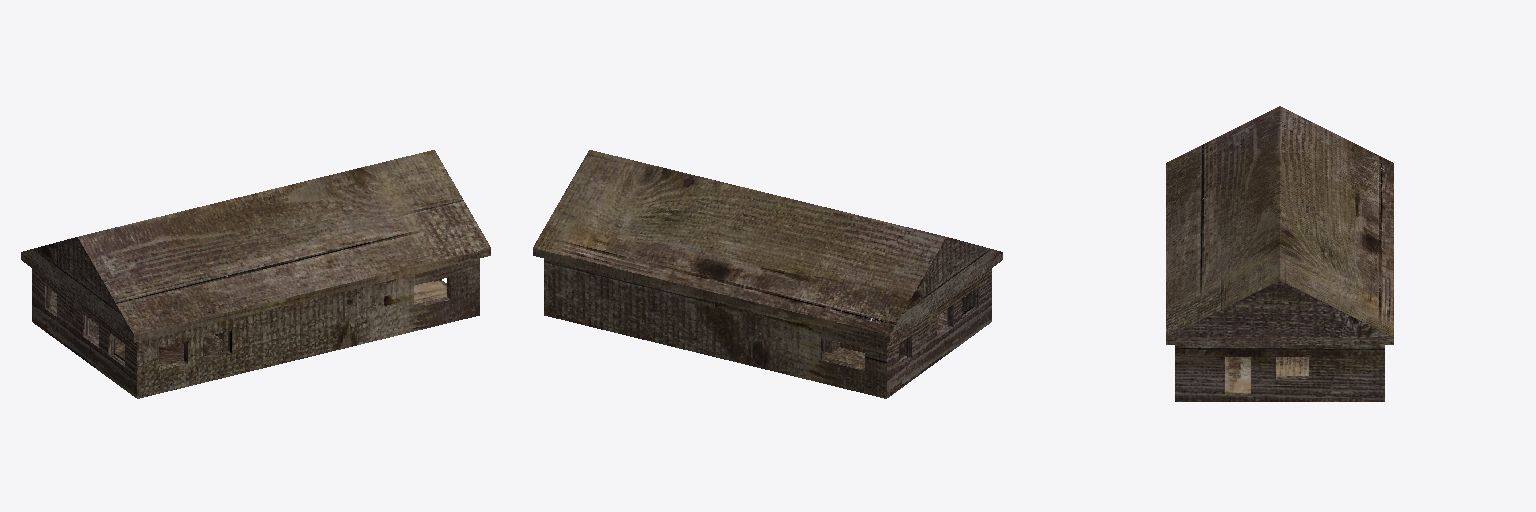
3 renders of one model, left to right at view 1: azimuth 30°, elevation 25°; view 2: azimuth 150°, elevation 25°; view 3: azimuth 270°, elevation 25°, orthographic.
Parts seen in each view (by area): view 1: house; view 2: house; view 3: house.
Boxes of the visible parts, <box> form: house: <box>21,150,490,398</box>; house: <box>533,150,1002,398</box>; house: <box>1166,106,1393,401</box>.
Size of the model in its own units: 4.9 by 1.65 by 2.7.
Materials: 1 (1 with a texture image).